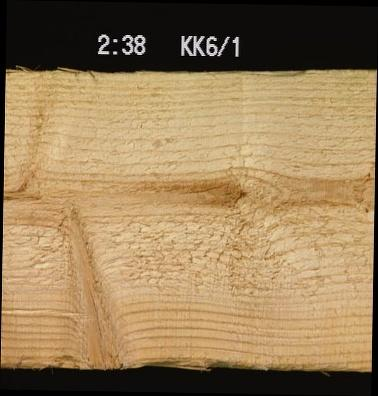wave: (0, 342, 285, 372)
